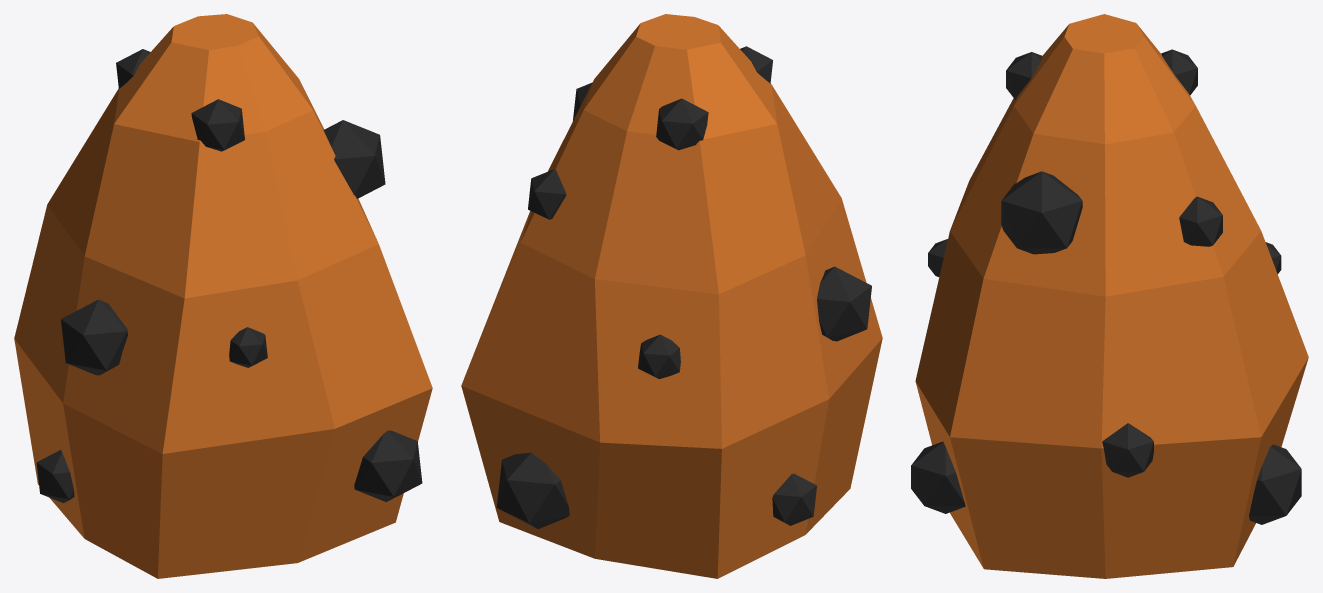
Rendered from Carbon.fbx.
The picture shows the model from 3 angles, left to right: view 1: azimuth 30°, elevation 25°; view 2: azimuth 150°, elevation 25°; view 3: azimuth 270°, elevation 25°; orthographic projection.
Parts seen in each view (by area): view 1: Core, Piece3, Piece7, Piece2, Piece9, Piece11, Piece8, Piece10; view 2: Core, Piece5, Piece3, Piece10, Piece11, Piece4, Piece1, Piece9; view 3: Core, Piece2, Piece5, Piece7, Piece6, Piece1, Piece9, Piece10.
Part boxes in pixels (x1,y1,x2,y2): Core: (14, 14, 432, 578); Piece3: (61, 299, 127, 375); Piece7: (354, 430, 422, 501); Piece2: (323, 120, 385, 198); Piece9: (191, 99, 244, 151); Piece11: (36, 450, 74, 502); Piece8: (229, 327, 267, 367); Piece10: (116, 49, 150, 88); Core: (461, 14, 882, 578); Piece5: (496, 452, 569, 528); Piece3: (817, 266, 871, 341); Piece10: (656, 98, 708, 150); Piece11: (772, 473, 816, 525); Piece4: (638, 334, 680, 378); Piece1: (528, 169, 566, 219); Piece9: (740, 46, 772, 83); Core: (915, 14, 1308, 578); Piece2: (1001, 171, 1082, 254); Piece5: (1249, 444, 1301, 524); Piece7: (911, 441, 965, 513); Piece6: (1102, 423, 1153, 477); Piece1: (1179, 196, 1222, 246); Piece9: (1006, 52, 1041, 99); Piece10: (1161, 49, 1197, 95).
Size of the model in its own units: 259 by 337 by 255.
